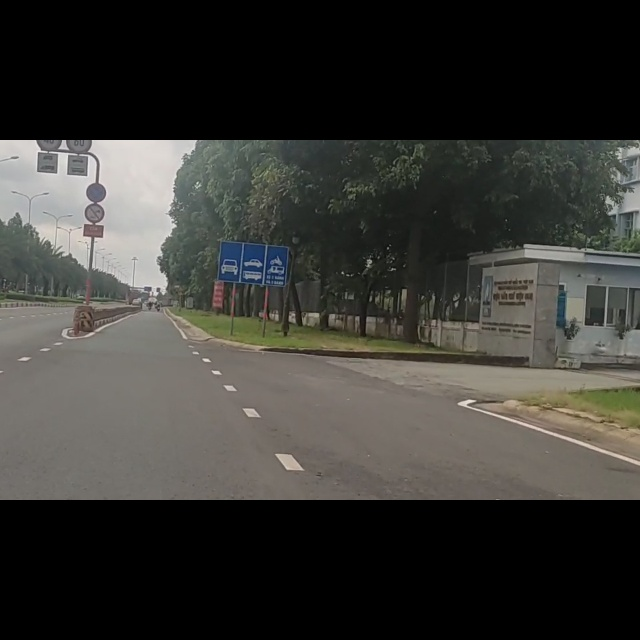bien_chi_dan: (216, 175, 290, 263), (83, 108, 105, 148), (84, 76, 107, 110)
